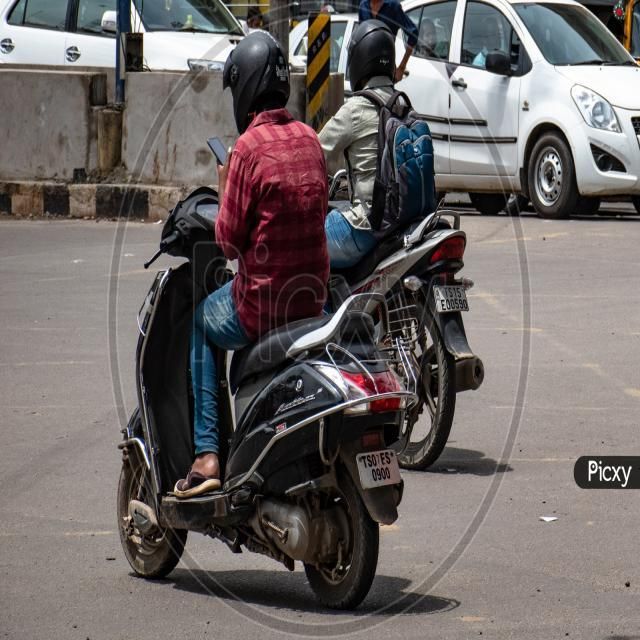USING_MOBILE: (188, 27, 290, 254)
